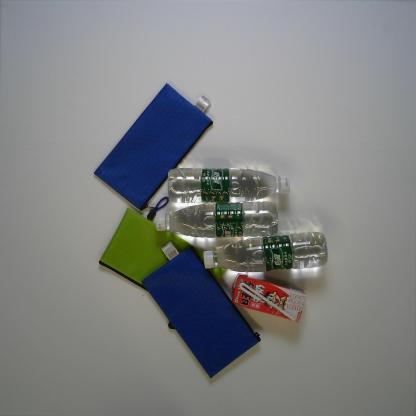Drink: (202, 230, 329, 273), (155, 200, 279, 238), (167, 167, 290, 204)
Milk: (230, 272, 308, 324)
Stationery: (93, 81, 214, 221), (140, 246, 262, 379), (98, 208, 227, 292)
